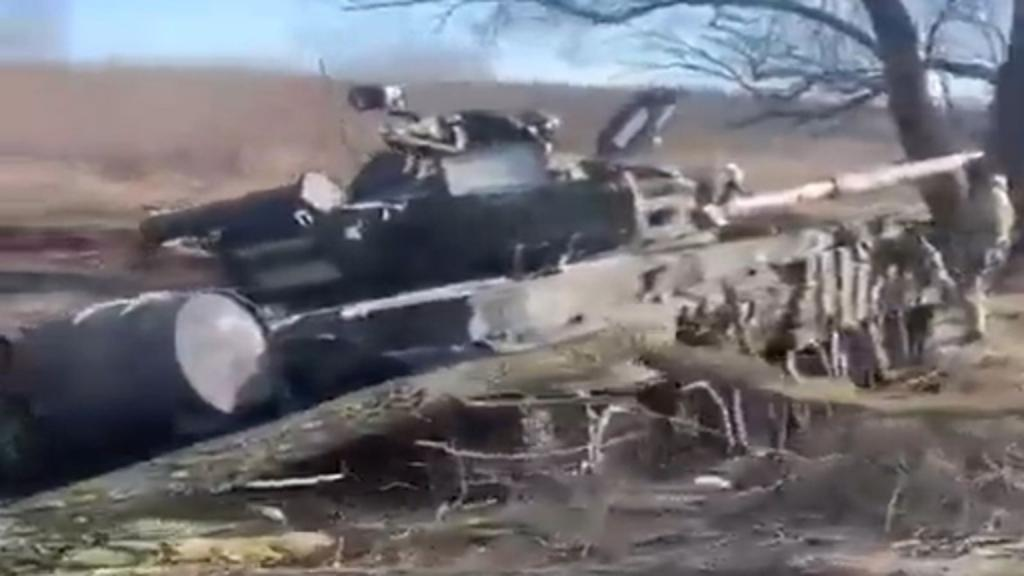TANK: (20, 86, 986, 486)
